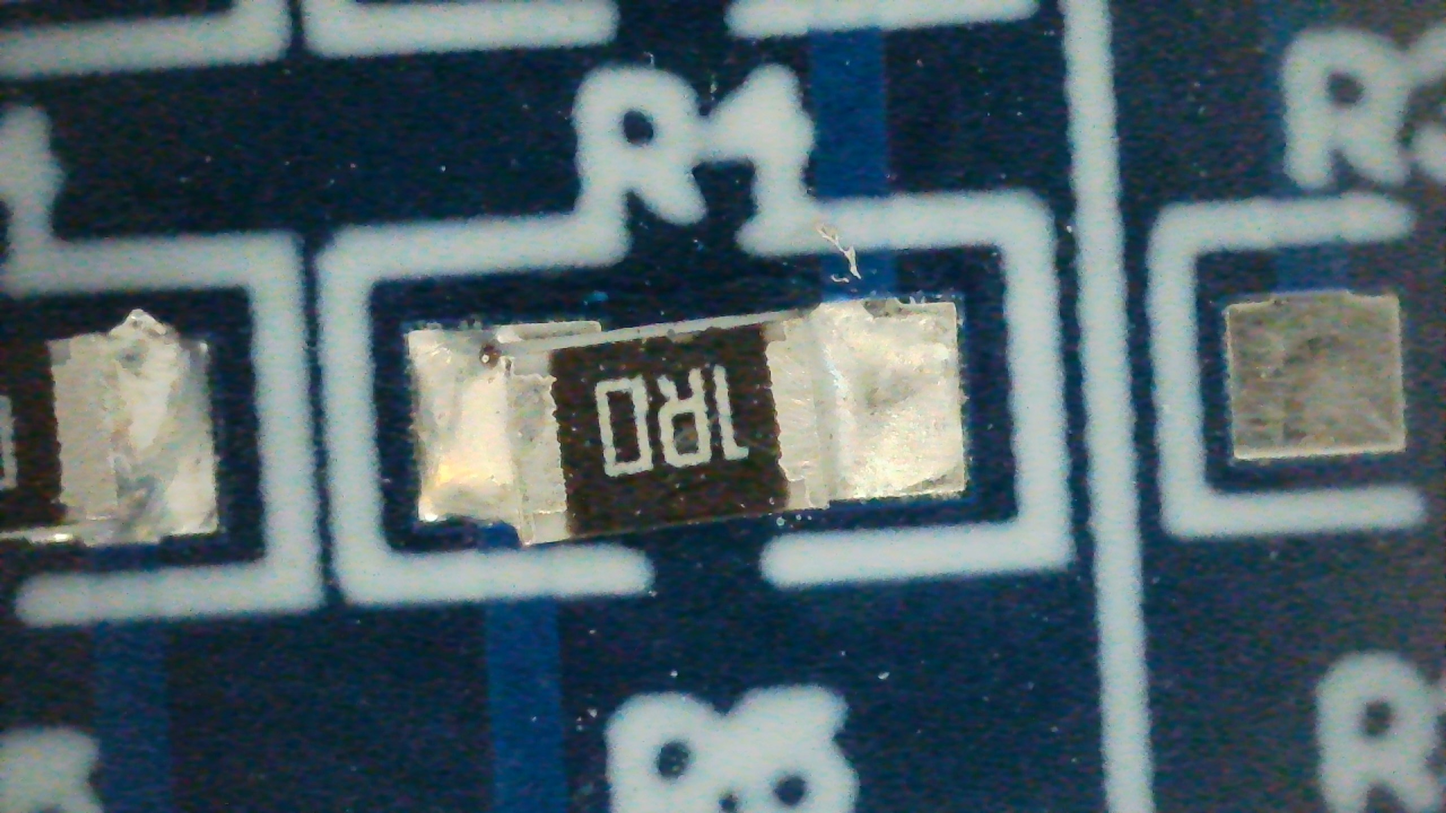NG: (410, 301, 966, 545)
